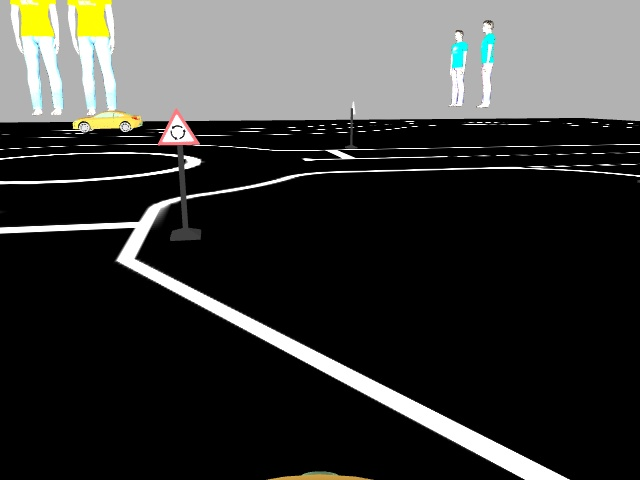Roundabout: (154, 107, 200, 145)
